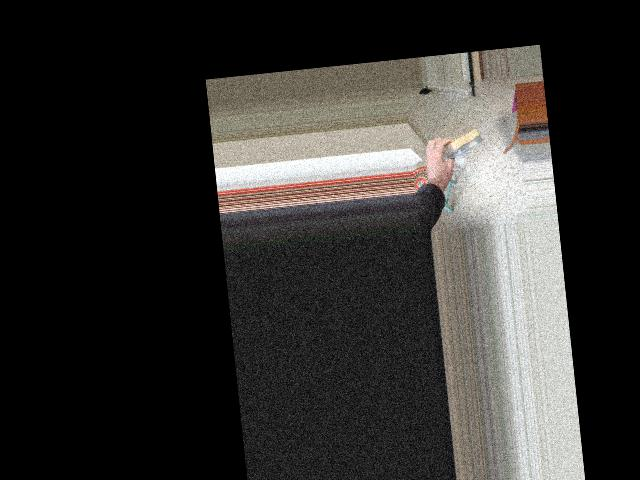cheese: (417, 113, 489, 173)
